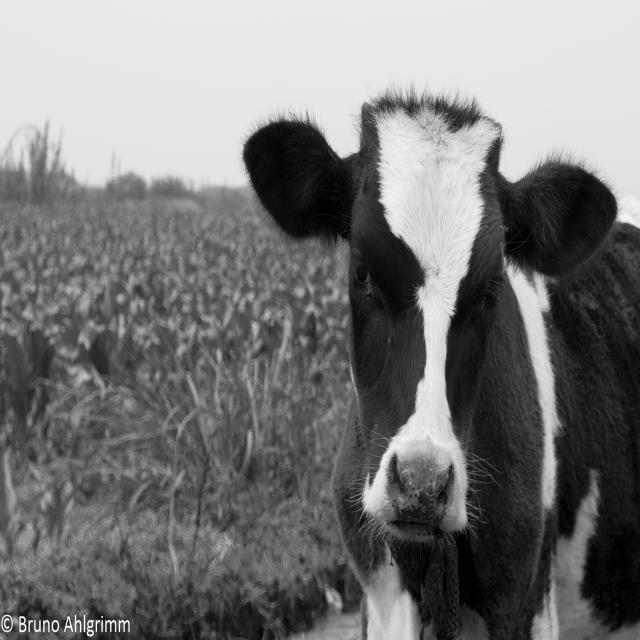cow: (244, 94, 640, 638)
